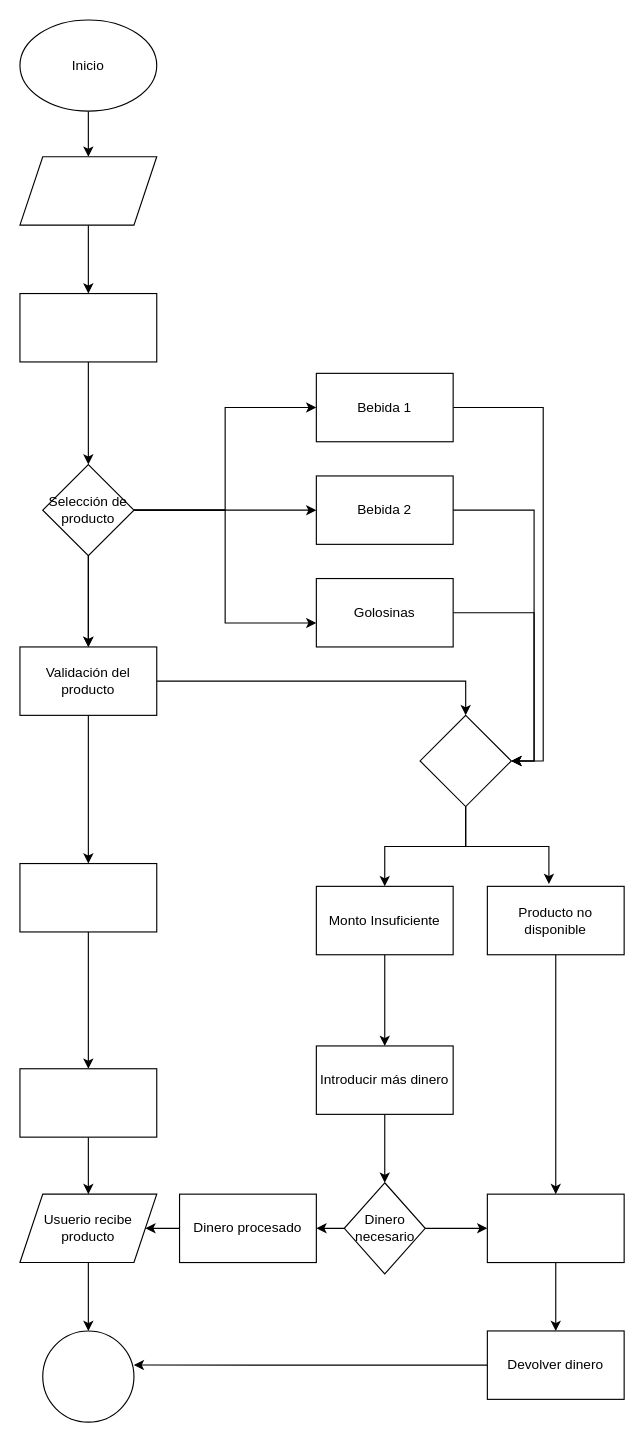
This 644x1442 diagram has some shape labels left out. The shapes that lost their labels are listed below. From the top down, each one's centre as x and y in pixels, then its label:
At point 88,190: "Usuario ingresa cantidad".
At point 88,327: "Recepción de dinero".
At point 465,760: "Errores".
At point 88,897: "Cálculo del precio y cambio".
At point 88,1102: "Dispensación del producto y devolución del cambio".
At point 555,1228: "Cancelar compra".
At point 88,1376: "Fin".
